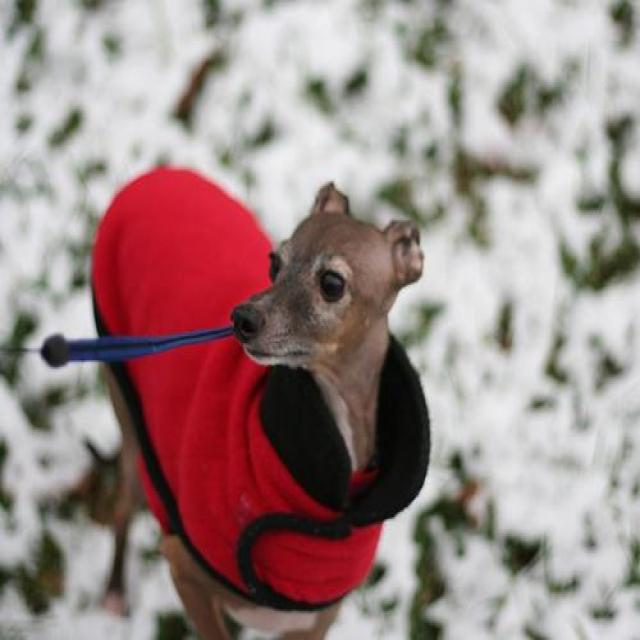dog: (52, 114, 605, 640)
